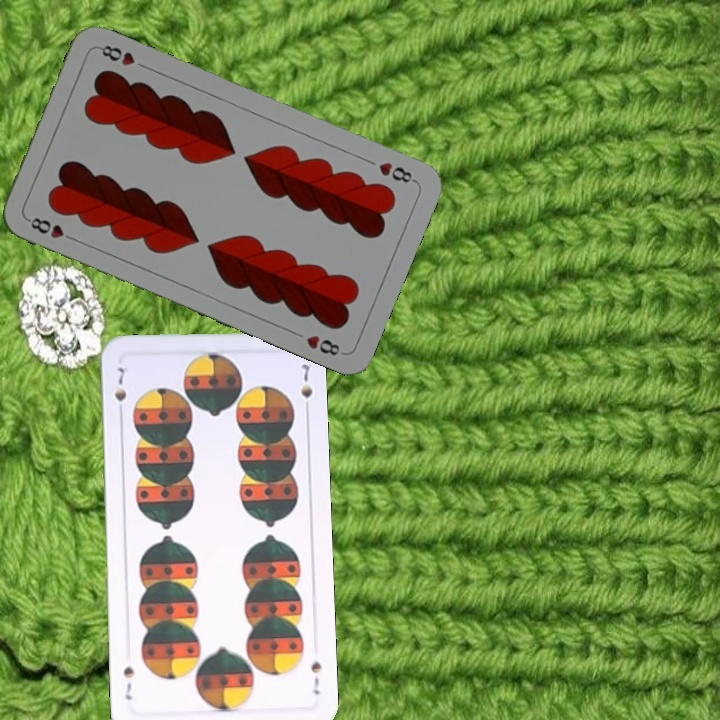H8: (23, 213, 79, 244), (374, 158, 419, 186)
S7: (110, 363, 129, 419), (306, 658, 324, 697)
